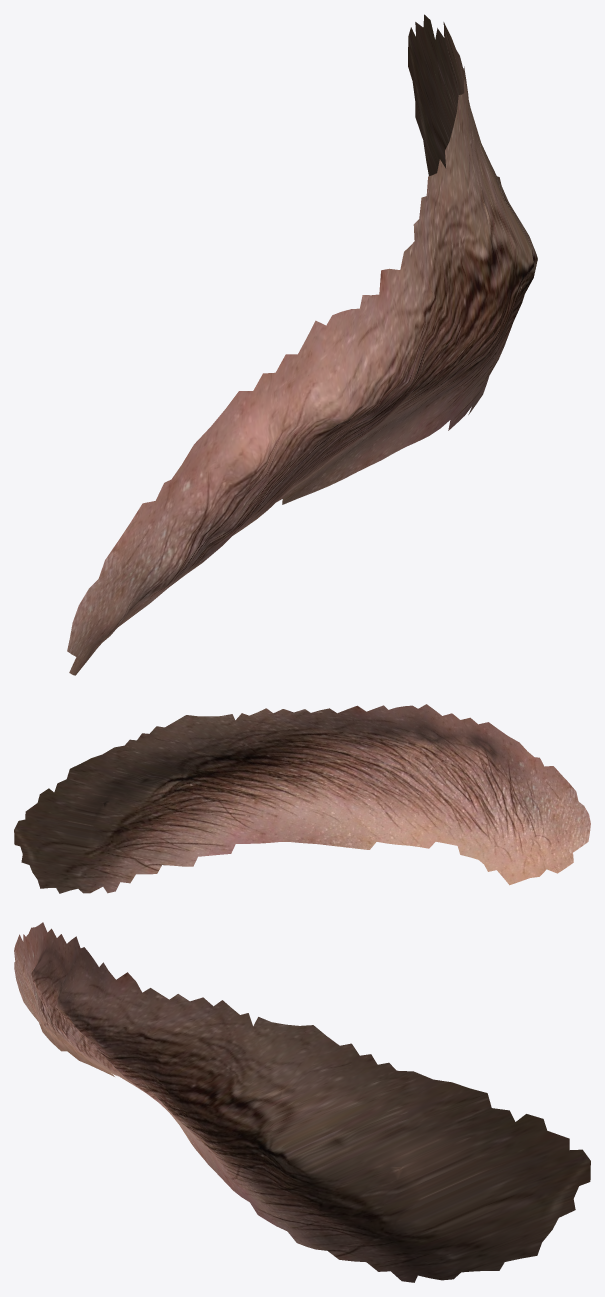
File: eyebrow04left.obj
3 views of the same model, one above another, from view 1: azimuth 30°, elevation 25°; view 2: azimuth 150°, elevation 25°; view 3: azimuth 270°, elevation 25° (orthographic). The views are drawn at different scales.
Parts seen in each view (by area): view 1: default; view 2: default; view 3: default.
Part boxes in pixels (left/top/right/bottom): default: left=67, top=14, right=537, bottom=675; default: left=14, top=704, right=590, bottom=893; default: left=14, top=922, right=590, bottom=1282.
Size of the model in its own units: 45.52 by 19.05 by 43.44.
1 material, 1 textured.
